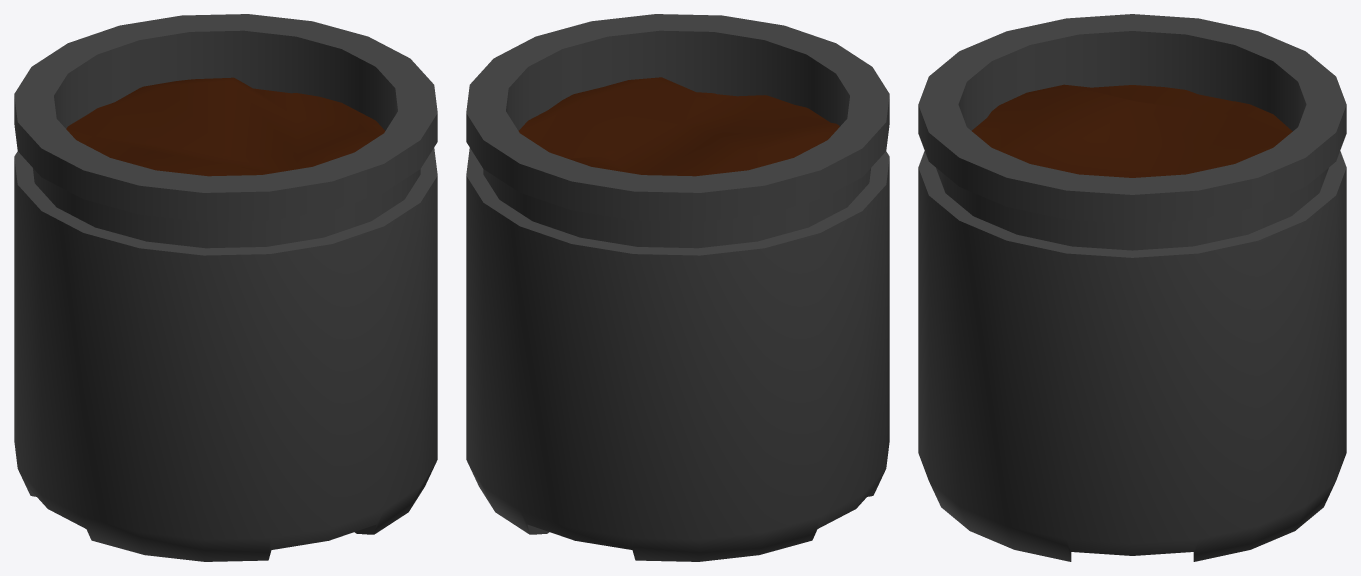
File: plant_pot.glb
The picture shows the model from 3 angles, left to right: view 1: azimuth 30°, elevation 25°; view 2: azimuth 150°, elevation 25°; view 3: azimuth 270°, elevation 25°; orthographic projection.
Parts seen in each view (by area): view 1: Cylinder, Circle; view 2: Cylinder, Circle; view 3: Cylinder, Circle.
Boxes of the visible parts, left/top/right/bottom form: Cylinder: left=14, top=14, right=437, bottom=561; Circle: left=66, top=77, right=385, bottom=176; Cylinder: left=466, top=14, right=889, bottom=561; Circle: left=518, top=77, right=839, bottom=176; Cylinder: left=918, top=14, right=1346, bottom=561; Circle: left=972, top=84, right=1292, bottom=177.
Size of the model in its own units: 1 by 1 by 1.
